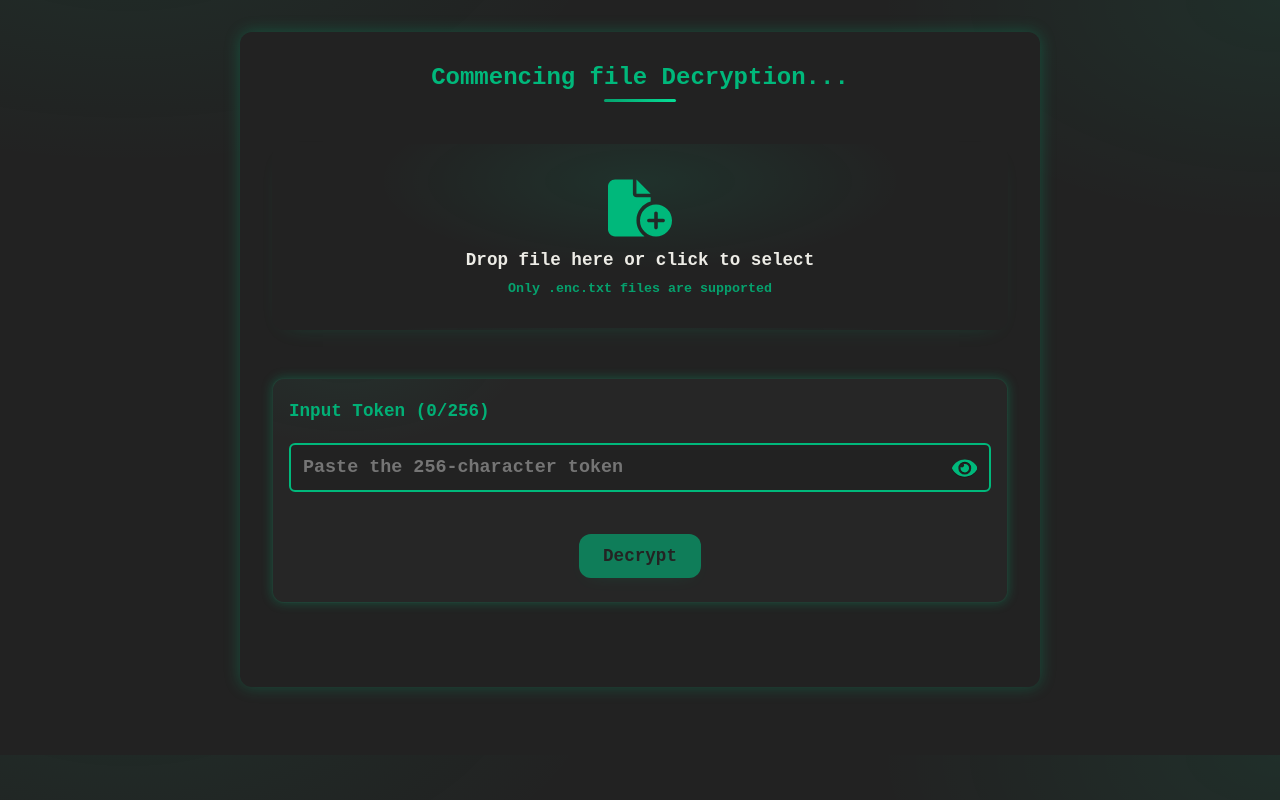
Scenario: Decryption (UI-only) › shows token help when token length is non-empty but not 256
Type "short" into the password field with test id "decryption.token.input" at (640, 467), box [289, 443, 991, 492]
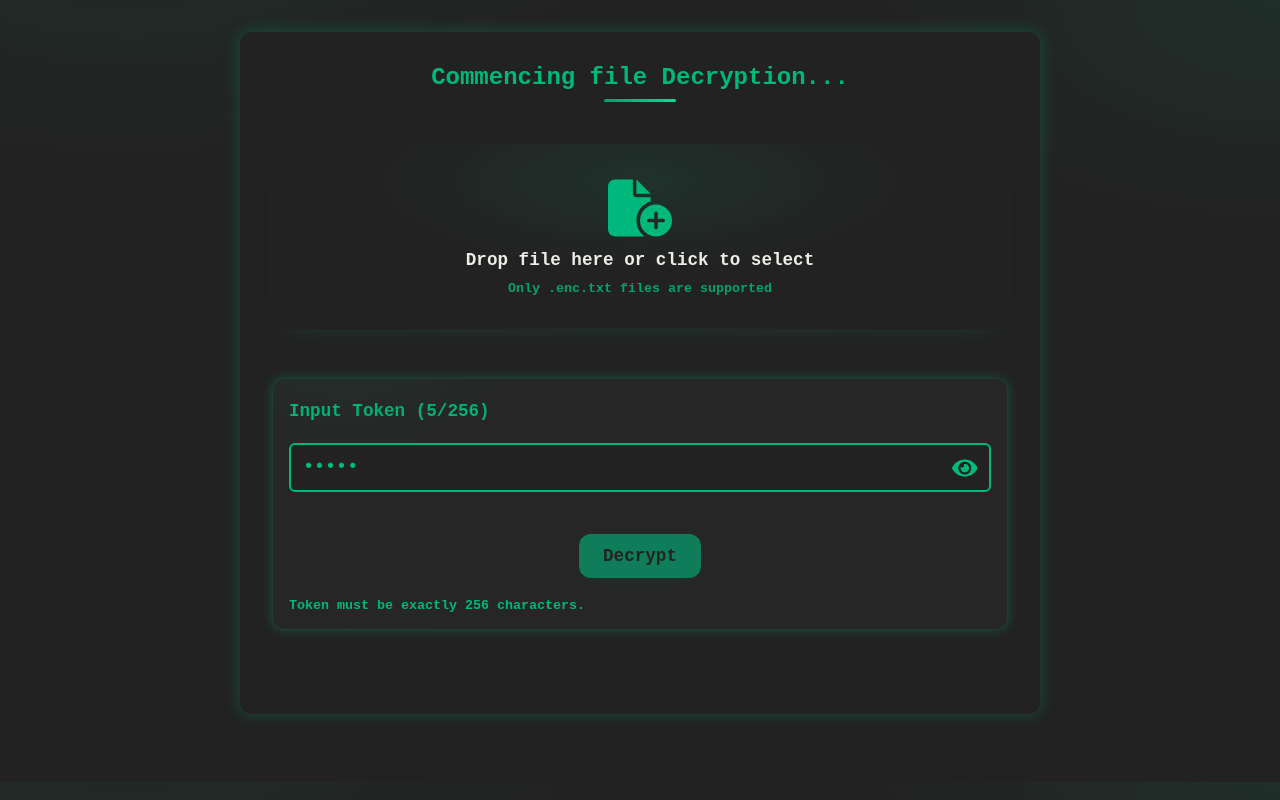
Expected: the text with test id "decryption.token.help" shows "exactly 256 characters", [289, 598, 585, 613]
